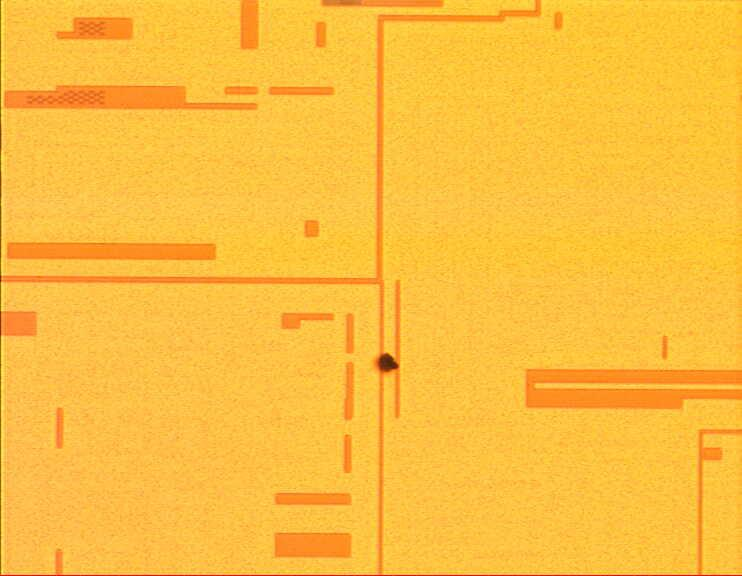PIQ PARTICLE: (369, 346, 405, 382)
